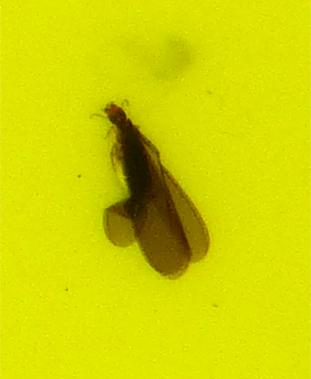Isoptera: (100, 100, 211, 279)
